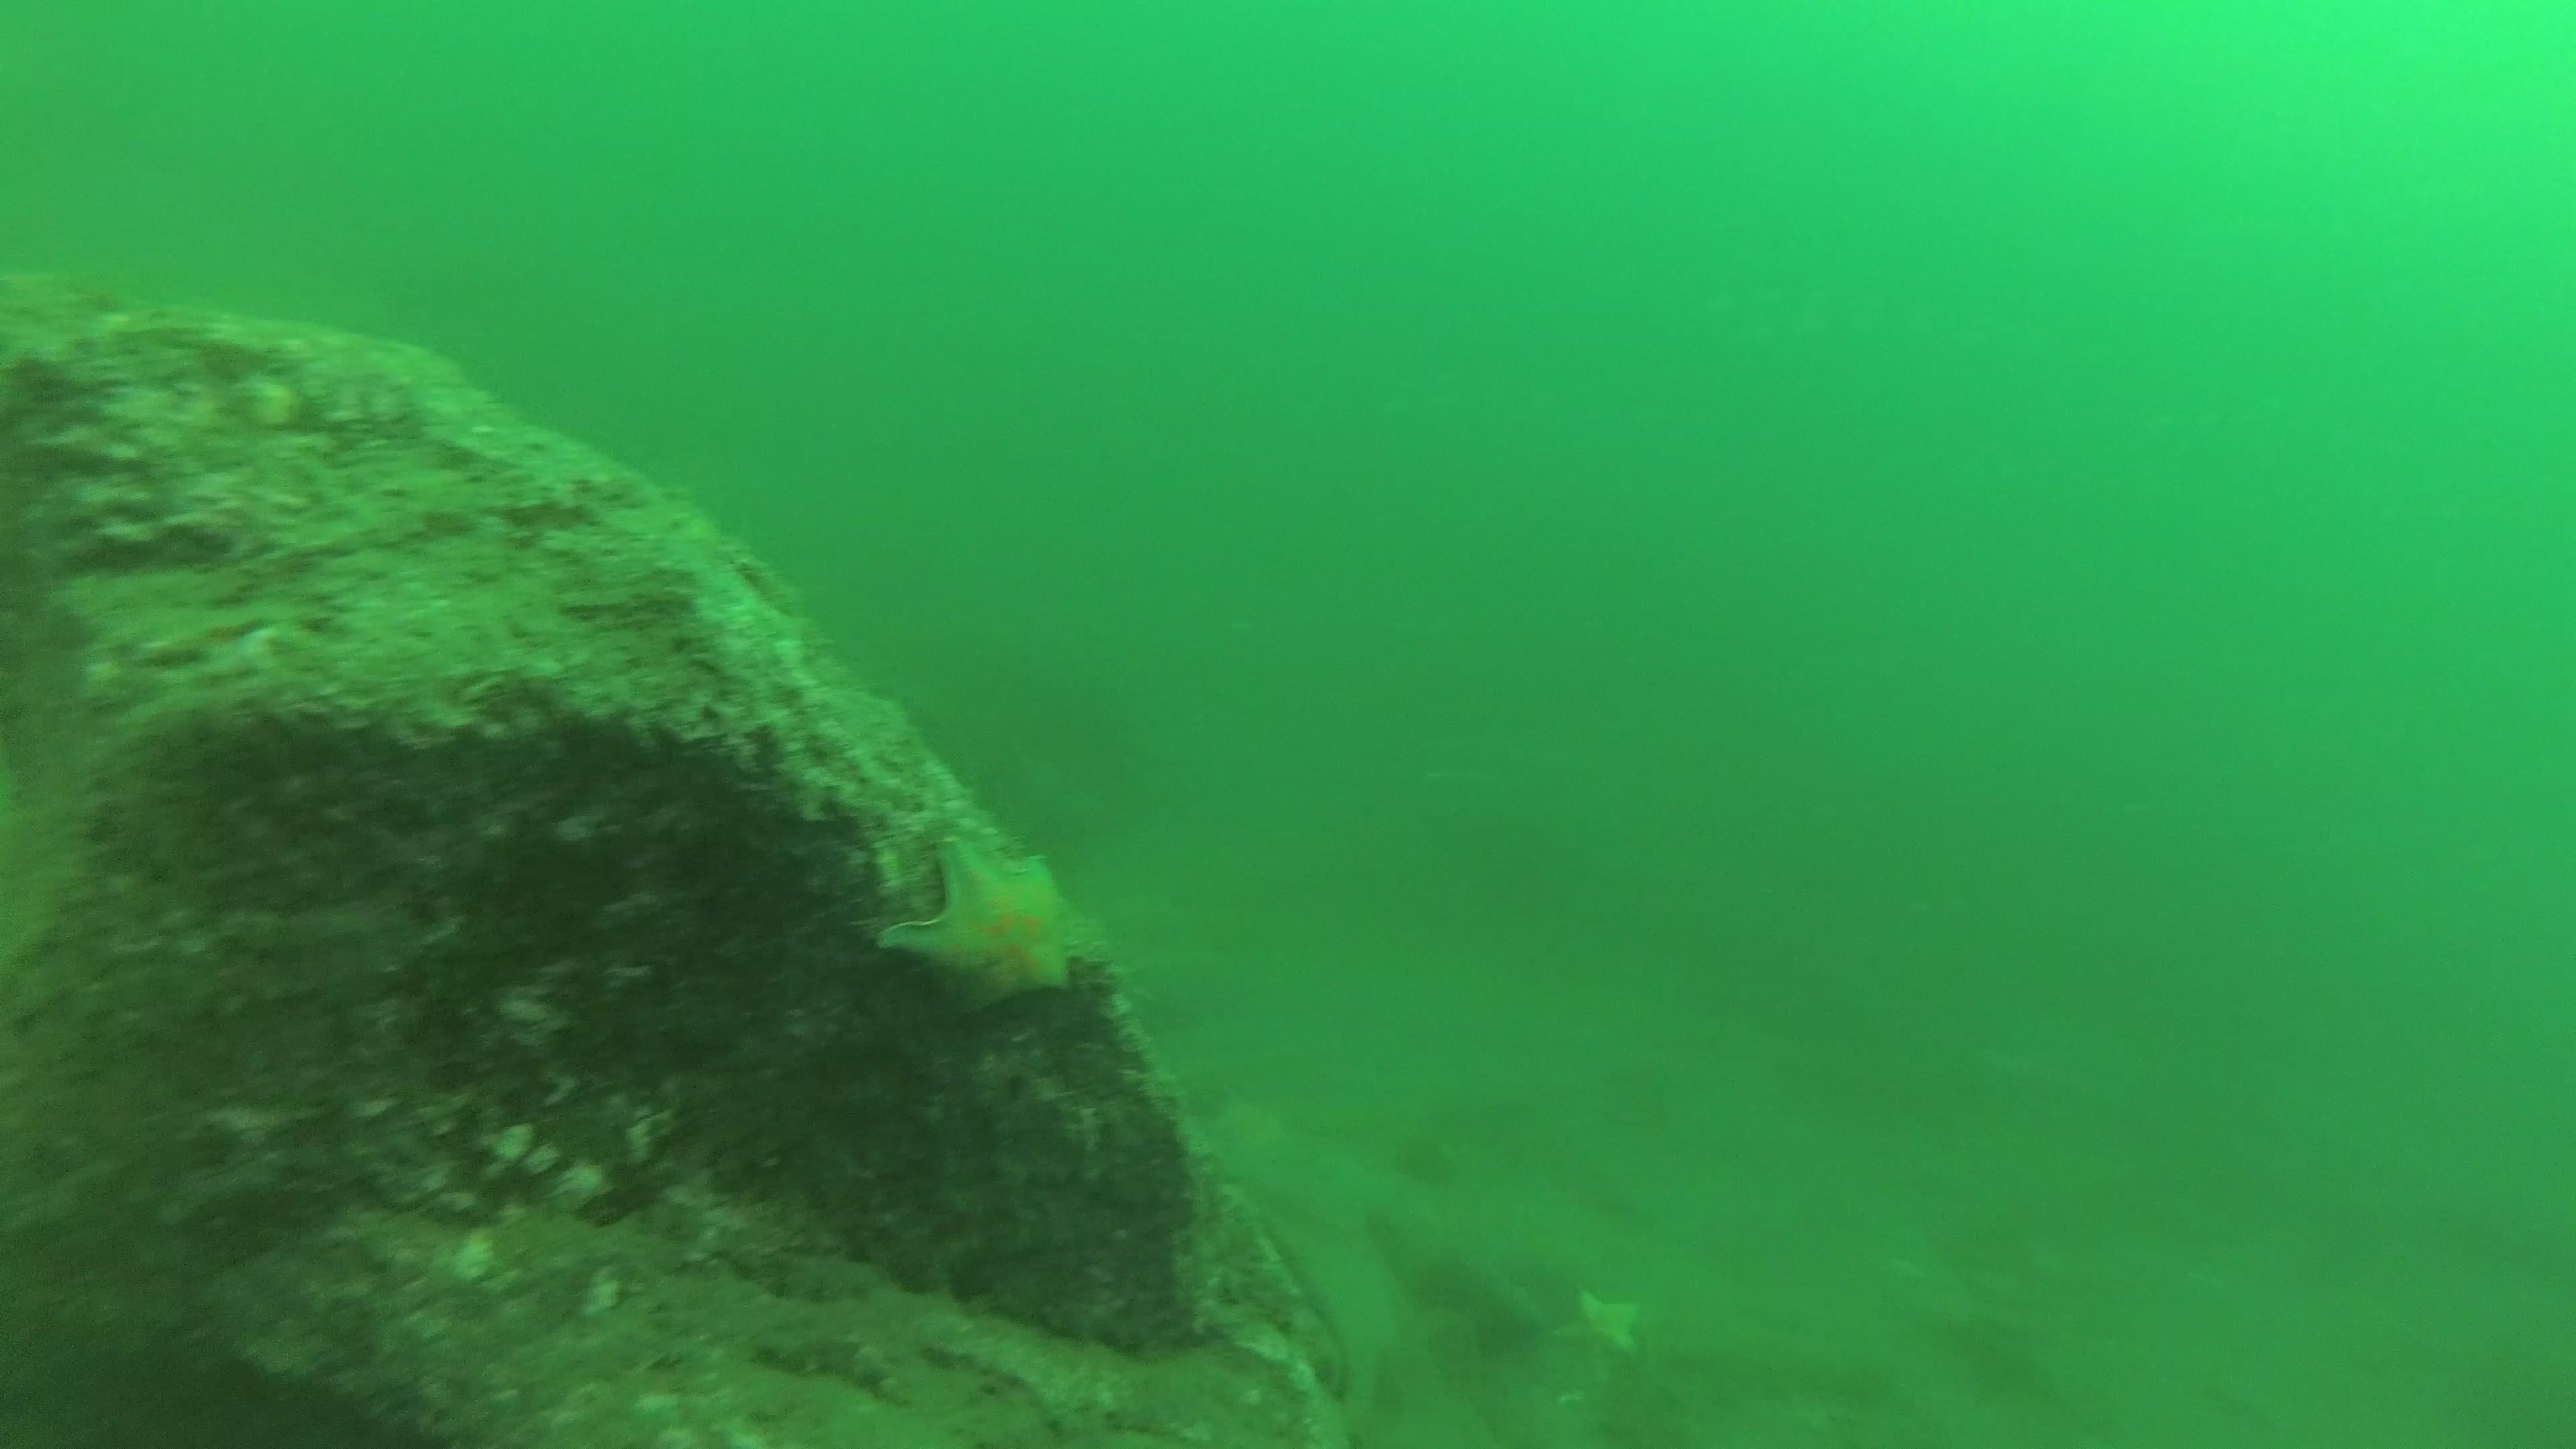starfish: (878, 840, 1074, 1016), (1552, 1290, 1638, 1361)
